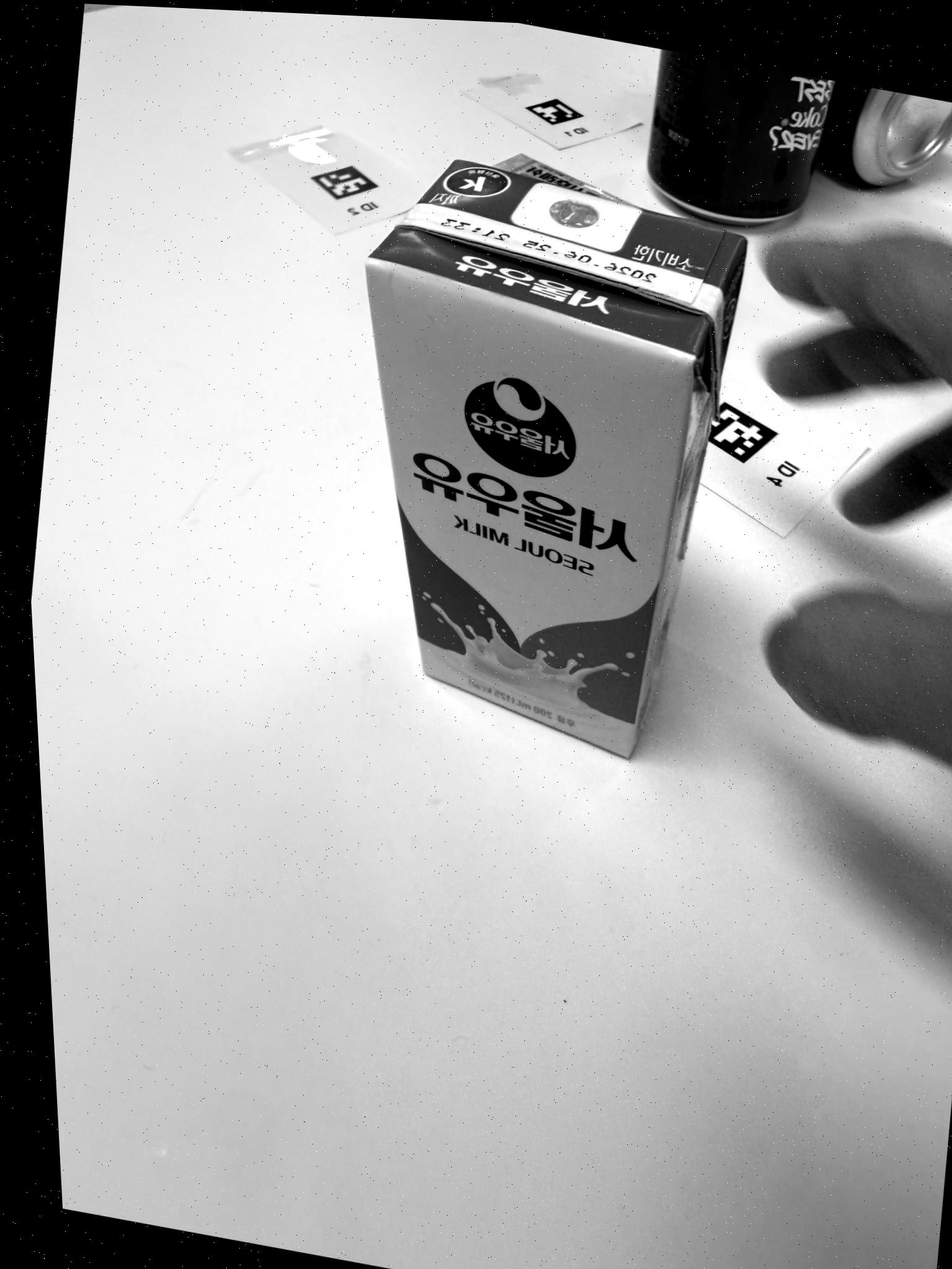milk_green: (367, 159, 747, 756)
